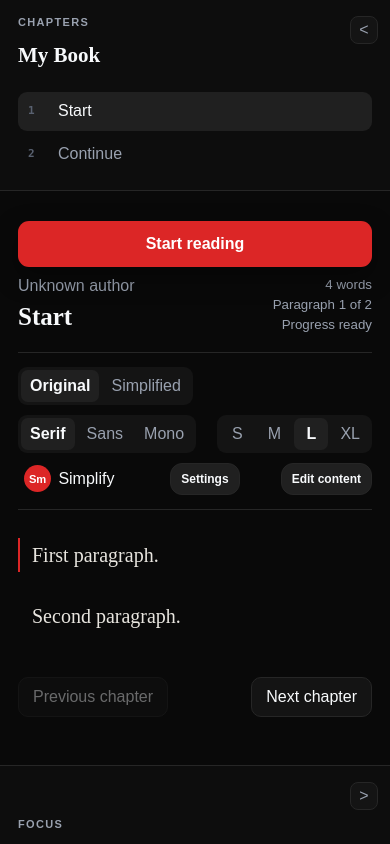
reader desktop shell › resumes the true last pause position even after browsing to a different paragraph first
The width and height of the screenshot is (390, 844).
Step 1. Click the text "First paragraph." → (195,555), box x1=18 y1=538 x2=372 y2=572
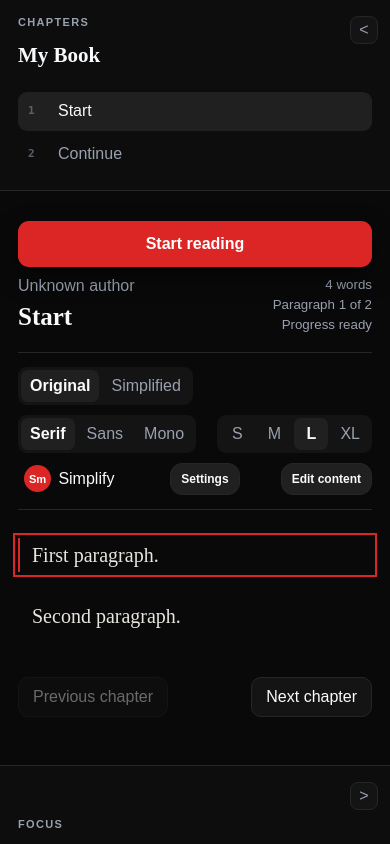
Step 2. Click the button "Start reading" → (195,244), box x1=18 y1=221 x2=372 y2=267
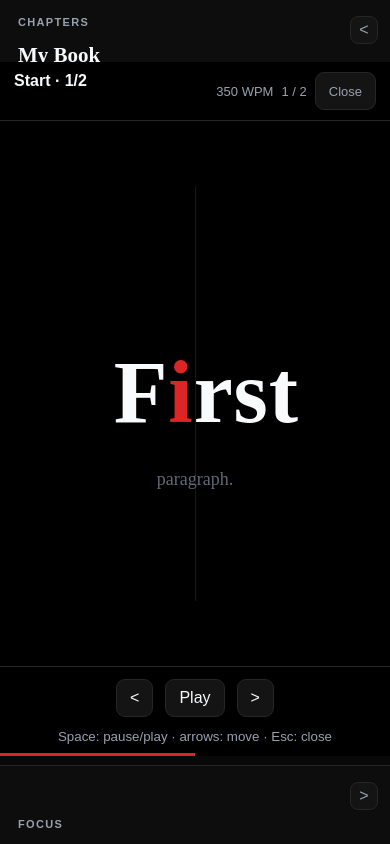
Expected: the element named "Focus reader" is shown
Step 3. Click the button named "Next words" → (255,698), box x1=237 y1=679 x2=274 y2=717
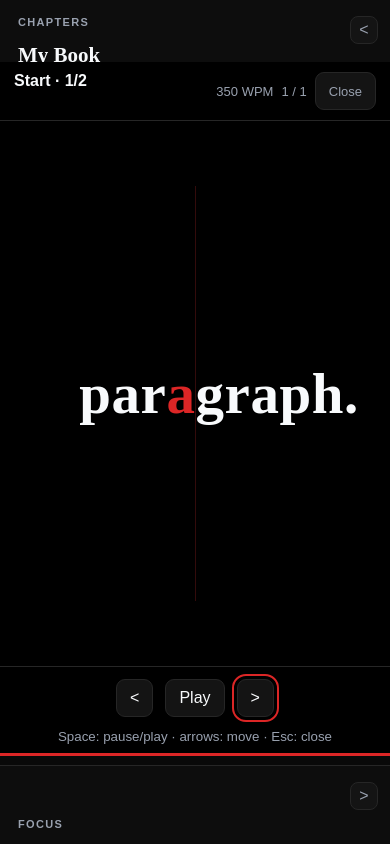
Step 4. Click the button "Close" → (345,91), box x1=315 y1=72 x2=376 y2=110
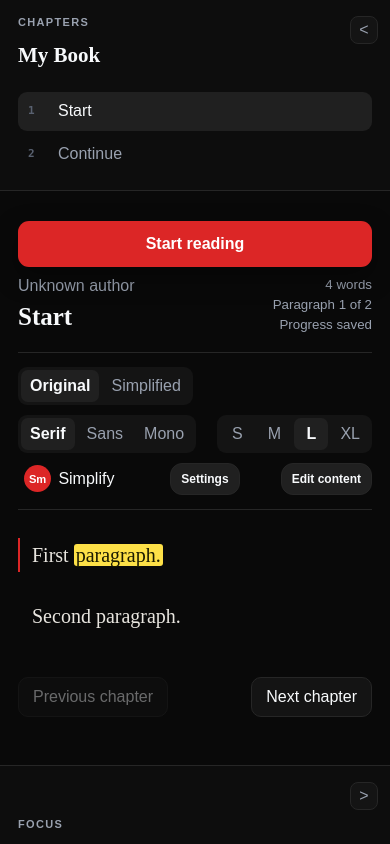
Step 5. Click the text "Second paragraph." → (106,616), box x1=32 y1=605 x2=181 y2=627
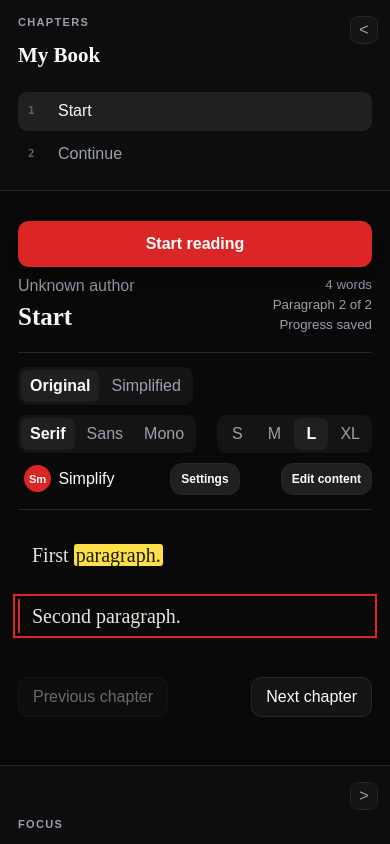
Step 6. Click the button "Start reading" → (195,244), box x1=18 y1=221 x2=372 y2=267
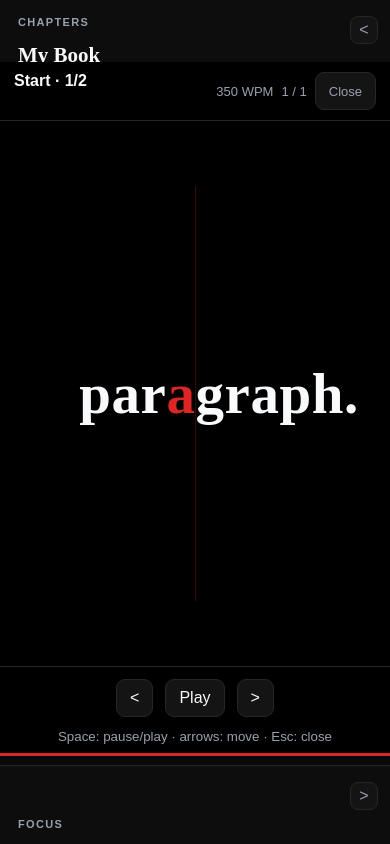
Expected: the text "Start · 1/2" is shown, x1=14 y1=72 x2=87 y2=90
Expected: the message reads "par a graph.", x1=79 y1=362 x2=359 y2=425
